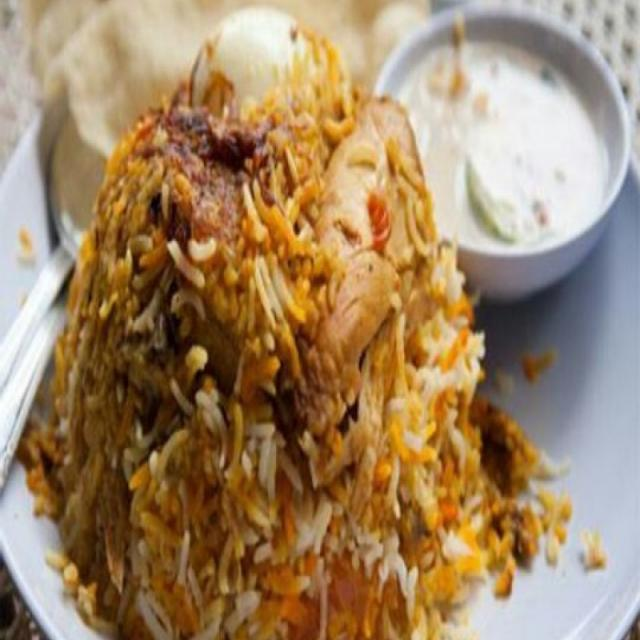Biryani: (42, 8, 530, 639)
